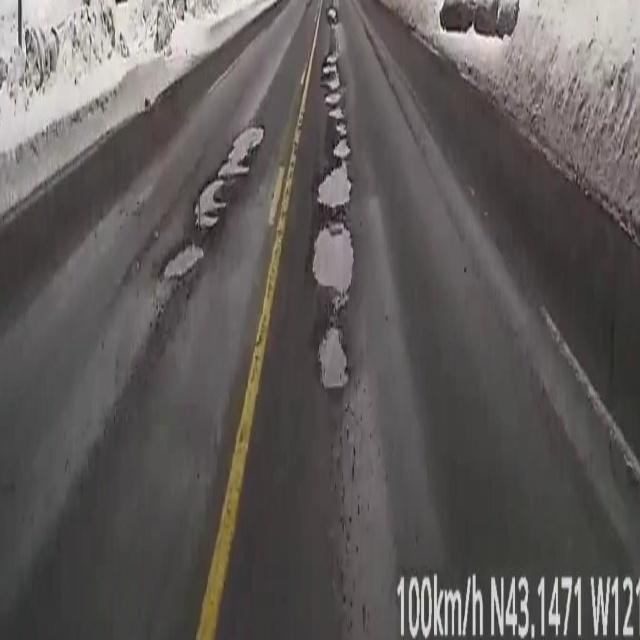pothole: (195, 124, 262, 234), (318, 52, 351, 214), (313, 222, 354, 306), (318, 326, 347, 392), (163, 241, 202, 286), (328, 6, 338, 25)
